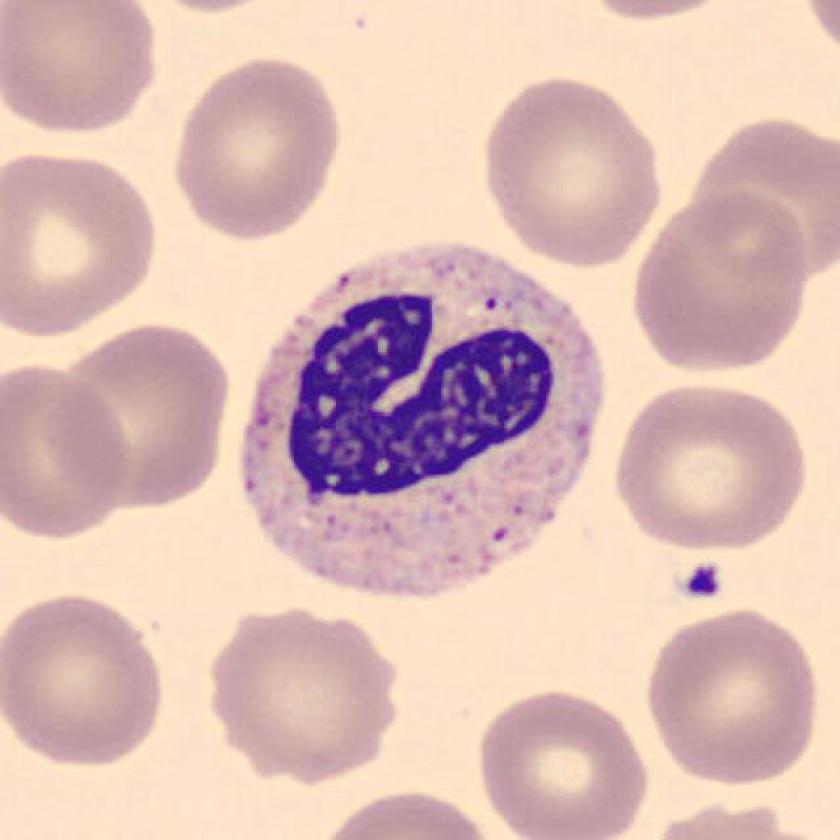neutrophil: (240, 248, 602, 593)
